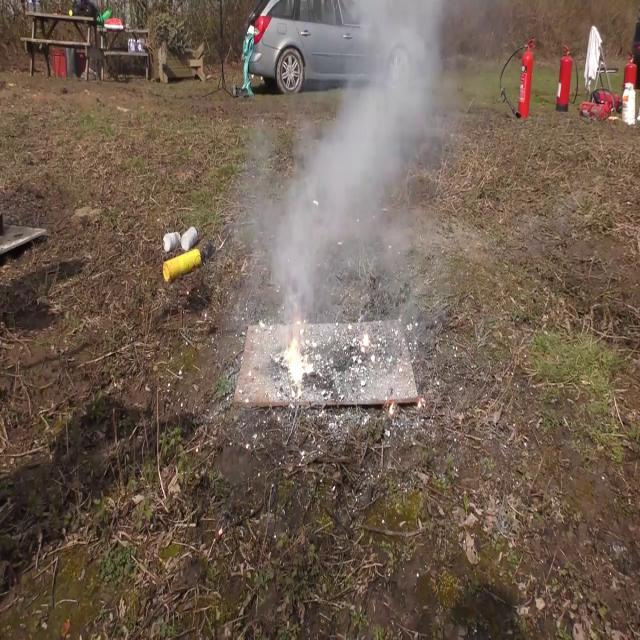Fire: (280, 332, 312, 394)
Smoke: (256, 1, 462, 329)
